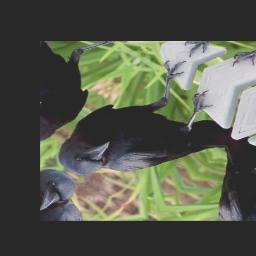Crow: (44, 43, 256, 218)
